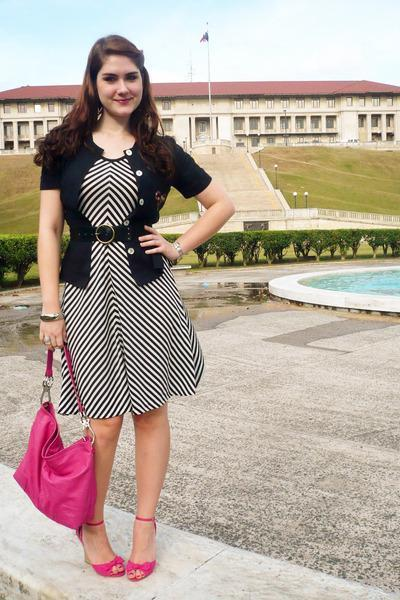bag: (13, 404, 103, 539)
dress: (41, 156, 203, 416)
jacket: (40, 132, 211, 294)
shoe: (92, 543, 159, 576)
